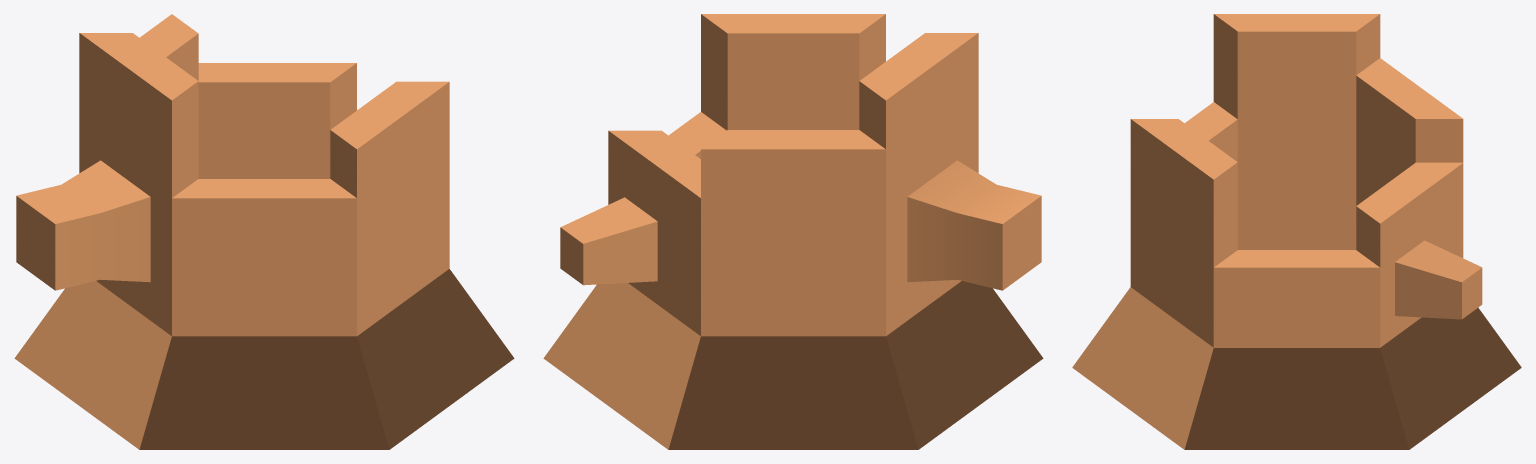
File: treeStump_old.obj
3 views of the same model, side by side, from view 1: azimuth 30°, elevation 25°; view 2: azimuth 150°, elevation 25°; view 3: azimuth 270°, elevation 25° (orthographic). The views are drawn at different scales.
Visible parts, largest first — view 1: treeStump_old; view 2: treeStump_old; view 3: treeStump_old.
Part boxes in pixels (left/top/right/bottom): treeStump_old: left=14, top=14, right=514, bottom=449; treeStump_old: left=543, top=14, right=1043, bottom=449; treeStump_old: left=1072, top=14, right=1521, bottom=449.
Size of the model in its own units: 3.57 by 2.66 by 3.71.
